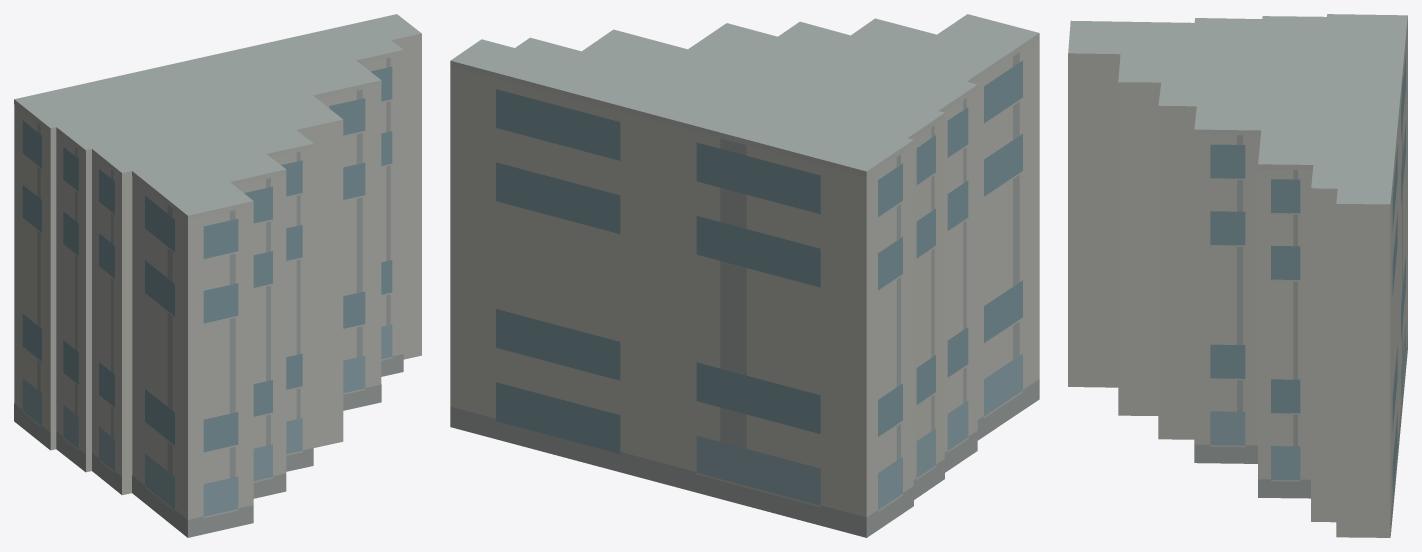
The model's file is survey-upis-32607861.glb.
The picture shows the model from 3 angles, left to right: view 1: azimuth 30°, elevation 25°; view 2: azimuth 150°, elevation 25°; view 3: azimuth 270°, elevation 25°; orthographic projection. The views are drawn at different scales.
Parts seen in each view (by area): view 1: survey-upis-32607861.tmp; view 2: survey-upis-32607861.tmp; view 3: survey-upis-32607861.tmp.
Boxes of the visible parts, box(x1,y1,x2,y2) form: survey-upis-32607861.tmp: box(14, 14, 421, 537); survey-upis-32607861.tmp: box(450, 14, 1039, 537); survey-upis-32607861.tmp: box(1068, 14, 1407, 537).
Bounding box in the file's own units: 18.98 × 15.5 × 14.32.
